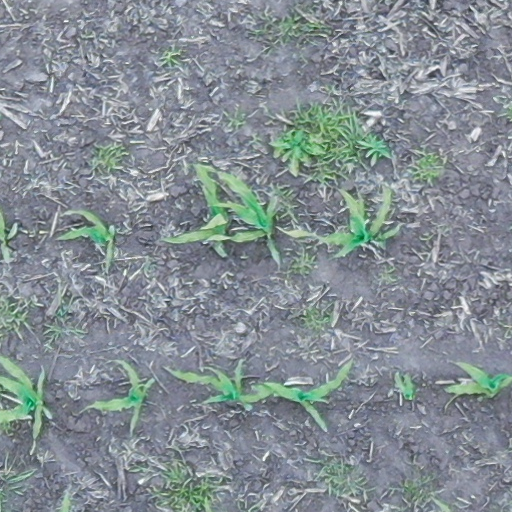planta: (161, 160, 281, 264), (280, 185, 405, 261), (168, 358, 354, 407), (88, 357, 147, 427), (56, 206, 117, 249), (391, 371, 417, 403), (303, 403, 329, 431)
